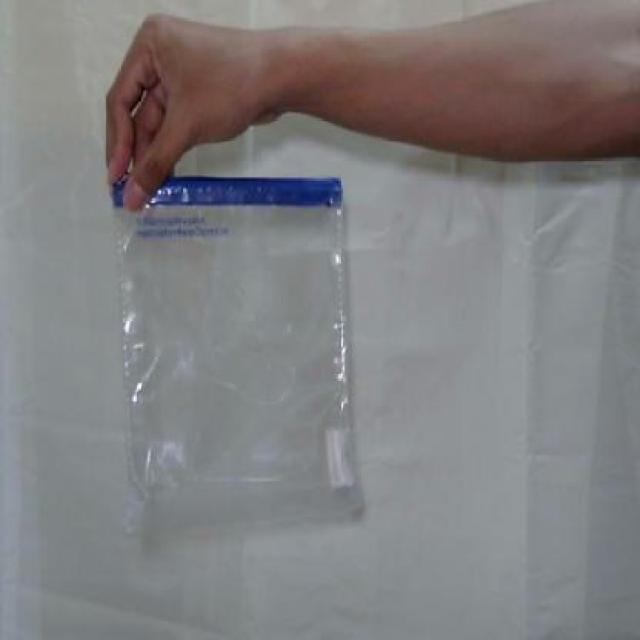Plastic: (86, 150, 400, 584)
